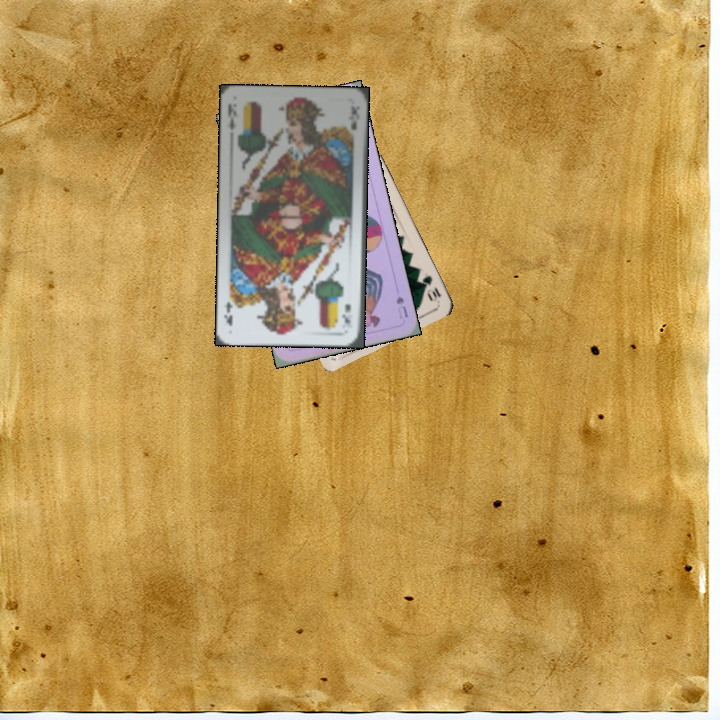EK: (223, 100, 241, 132), (340, 300, 356, 326)
G10: (418, 271, 443, 304)
SU: (392, 292, 411, 322)
